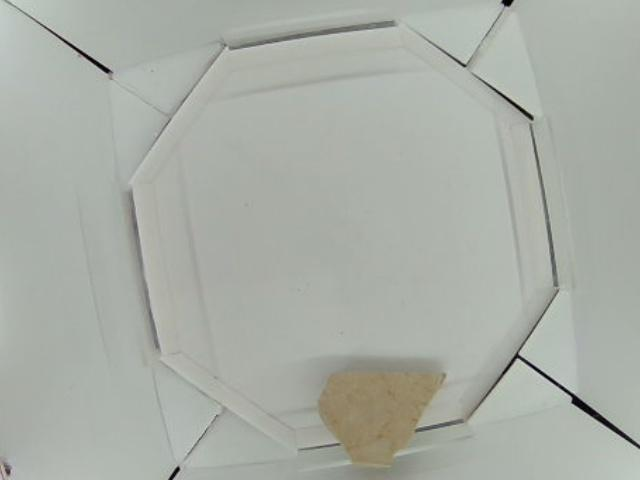China: (319, 371, 449, 469)
